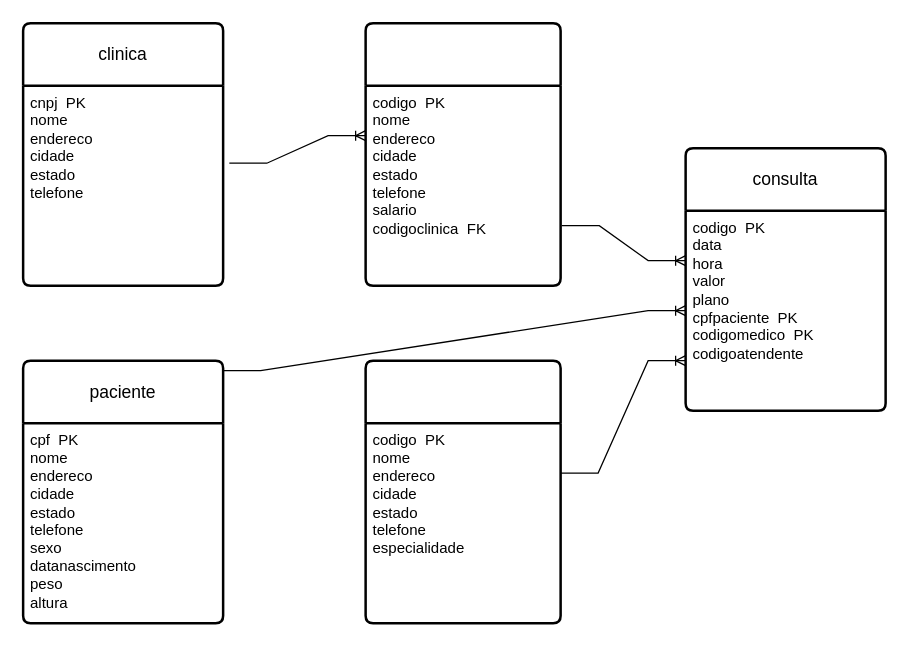
Some shapes in this 908 by 645 pixel diagram are drawn without their labels. The shapes that lost their labels are listed below. From the top down, each one's box as (x1, y1, x2, y2) in pixels, then its label:
(364, 21, 561, 286): atendente
(364, 359, 561, 624): medico
